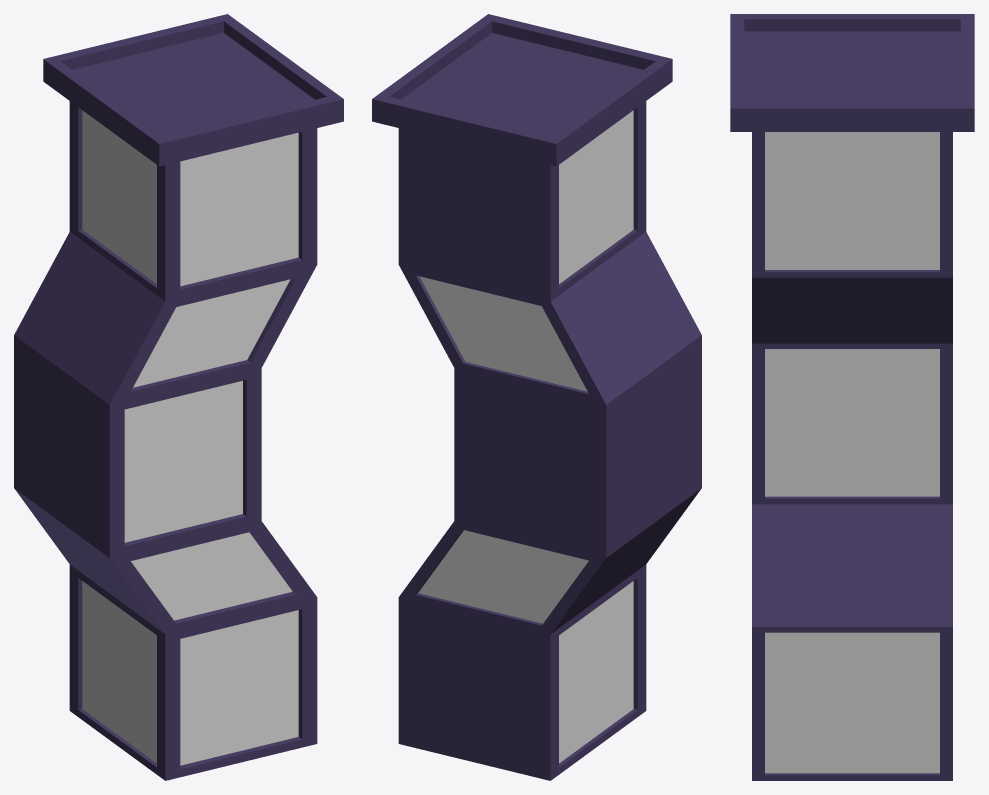
File: Batiment.fbx
3 renders of one model, left to right at view 1: azimuth 30°, elevation 25°; view 2: azimuth 150°, elevation 25°; view 3: azimuth 270°, elevation 25°, orthographic. The views are drawn at different scales.
Visible parts, largest first — view 1: Bat; view 2: Bat; view 3: Bat.
Boxes of the visible parts, x1,y1,x2,y2 form: Bat: (14, 14, 343, 780); Bat: (372, 14, 701, 780); Bat: (730, 14, 974, 780).
Bounding box in the file's own units: 376 × 1040 × 338.
